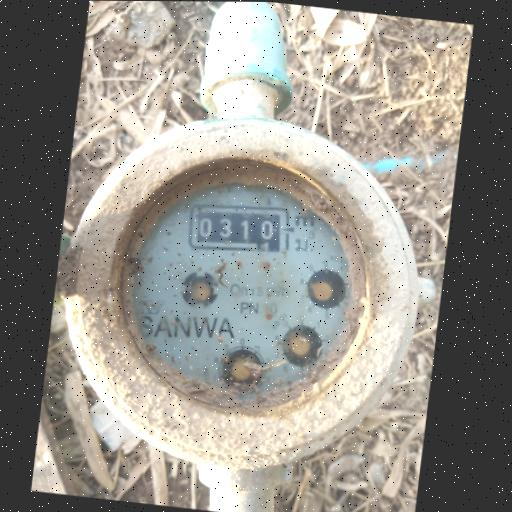0: (253, 210, 284, 255), (193, 210, 220, 243)
1: (233, 211, 260, 244)
3: (214, 210, 239, 243)
border_water_meter_number: (185, 197, 294, 259)
